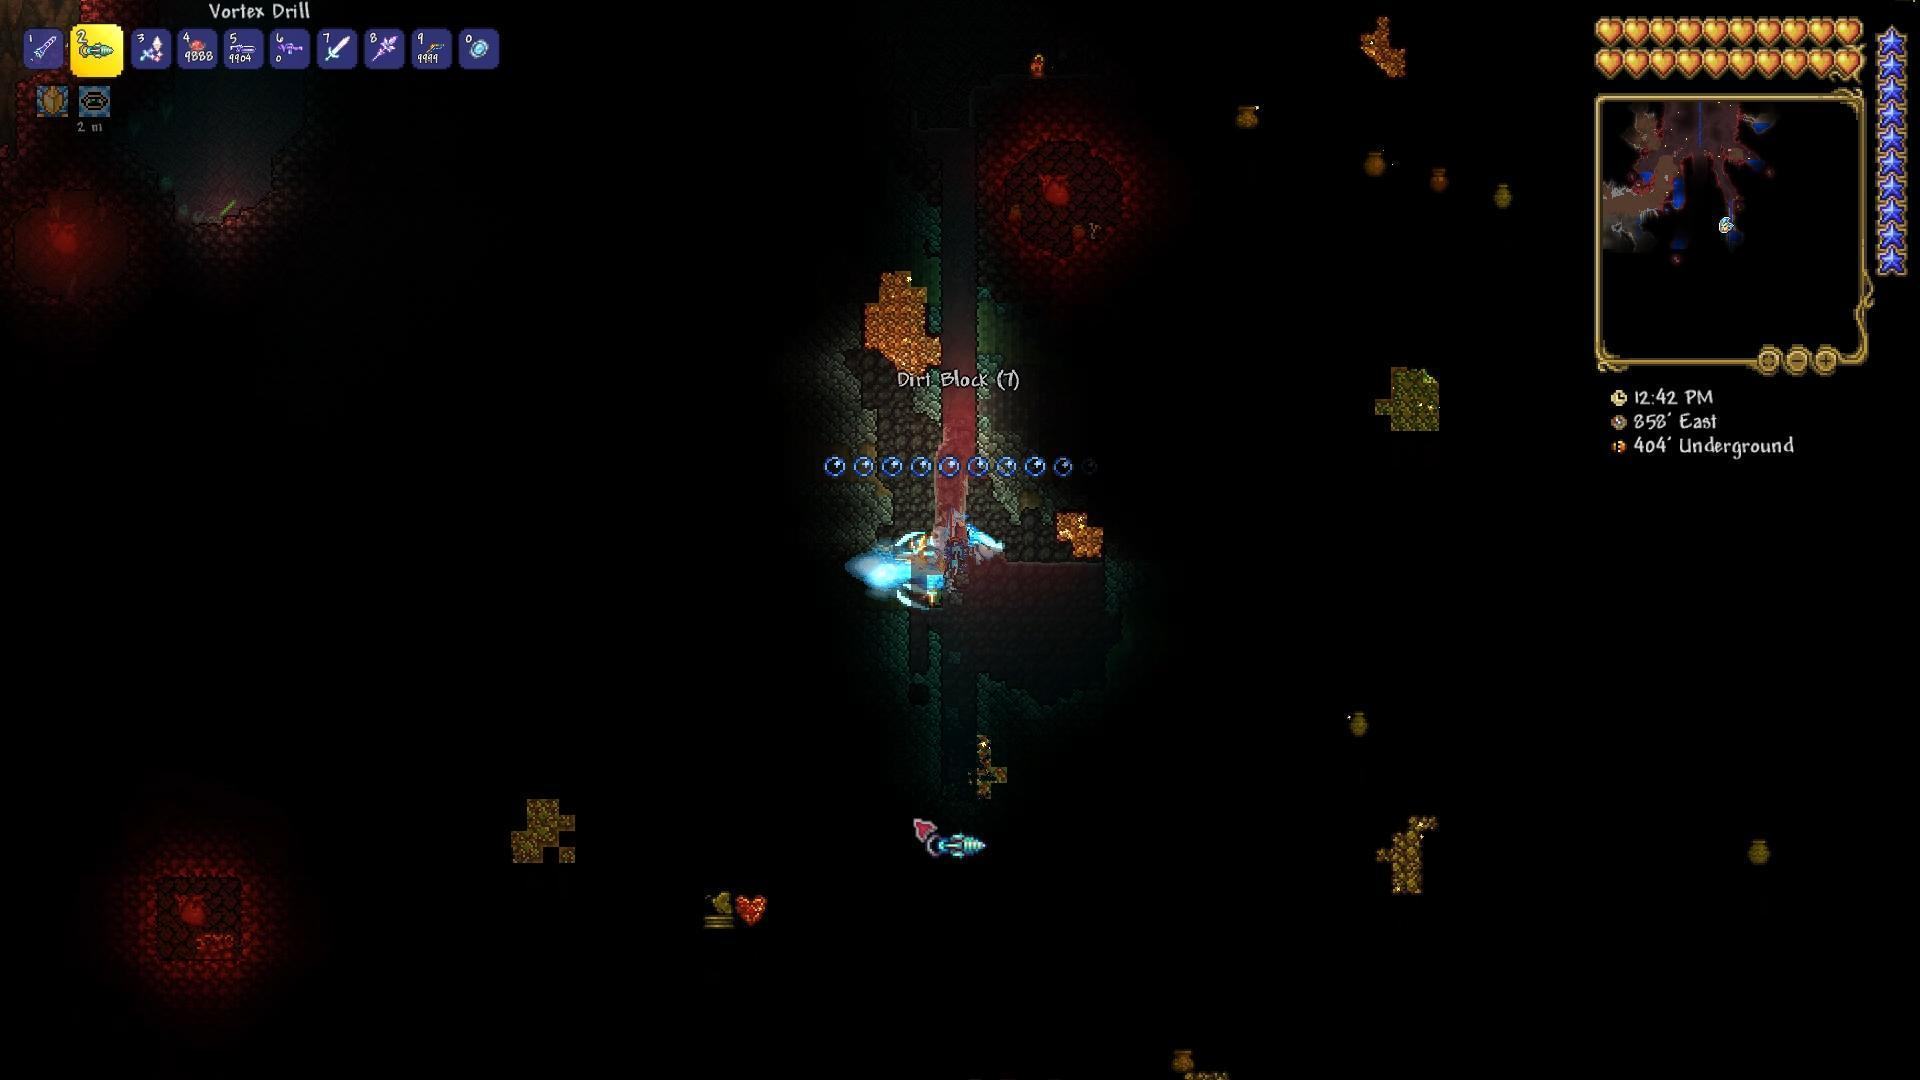altar: (191, 928, 237, 965)
lifeC: (731, 886, 769, 927)
mirror: (465, 36, 491, 65)
